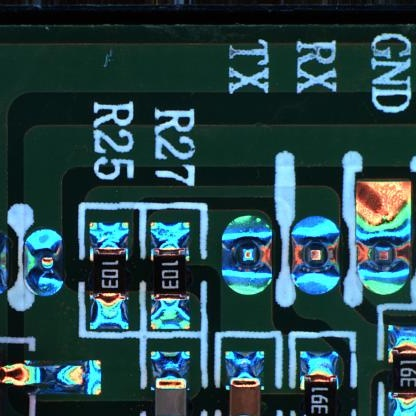spot: (222, 213, 272, 299), (290, 215, 339, 297), (24, 228, 65, 299)
